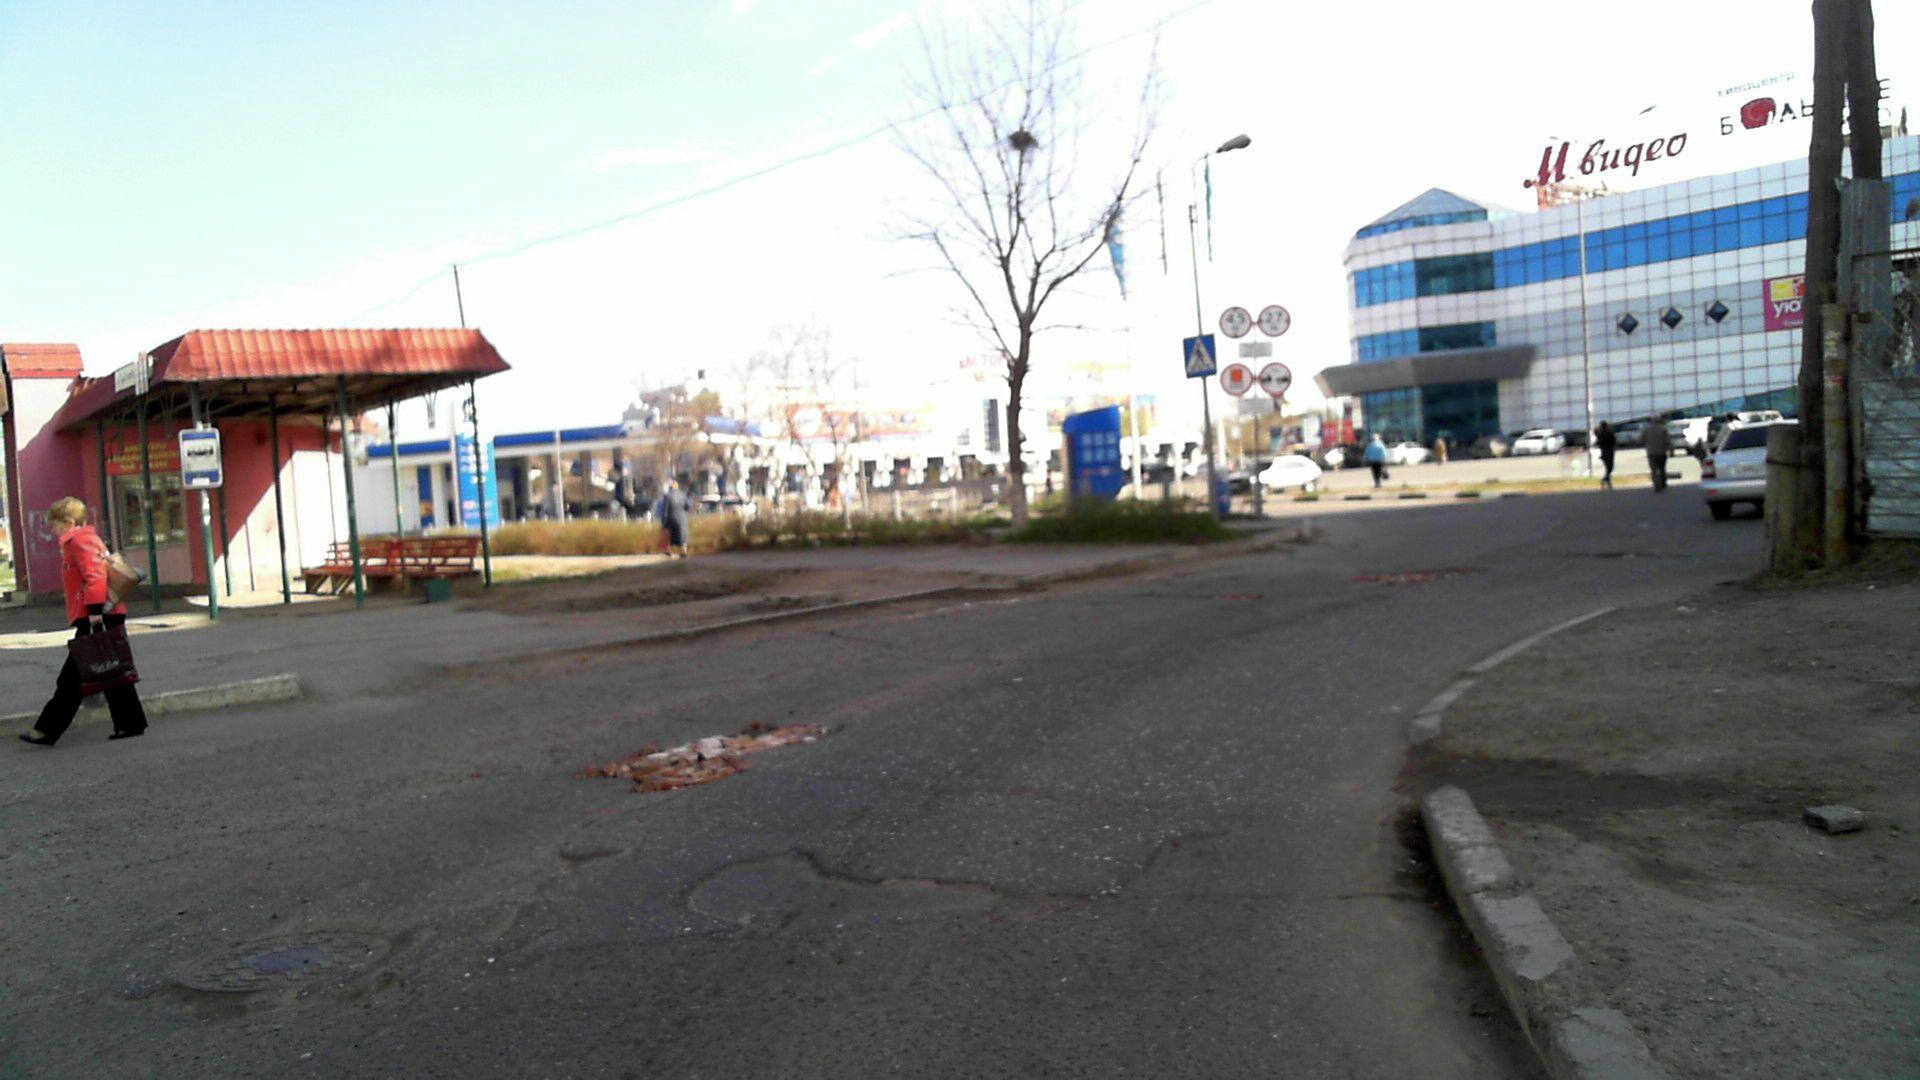3_13: (1220, 306, 1253, 339)
3_14: (1257, 305, 1292, 336)
3_16: (1261, 359, 1291, 396)
3_32: (1220, 361, 1254, 396)
5_16: (178, 430, 224, 488)
5_19_2: (1182, 334, 1217, 377)
